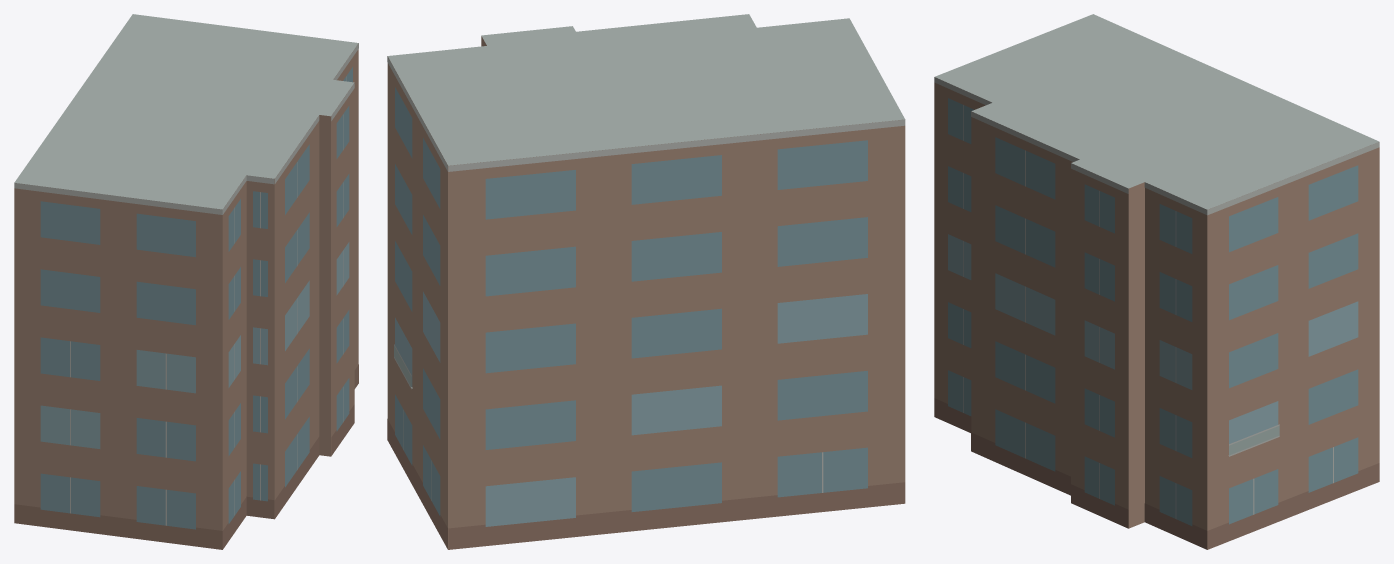
Rendered from survey-upis-32742378.glb.
3 views of the same model, side by side, from view 1: azimuth 30°, elevation 25°; view 2: azimuth 150°, elevation 25°; view 3: azimuth 270°, elevation 25° (orthographic). The views are drawn at different scales.
Visible parts, largest first — view 1: survey-upis-32742378.tmp; view 2: survey-upis-32742378.tmp; view 3: survey-upis-32742378.tmp.
Part boxes in pixels (bbox=[...]): survey-upis-32742378.tmp: bbox=[14, 14, 358, 549]; survey-upis-32742378.tmp: bbox=[387, 14, 905, 549]; survey-upis-32742378.tmp: bbox=[934, 14, 1379, 549].
Size of the model in its own units: 18.47 by 14.95 by 17.74.
